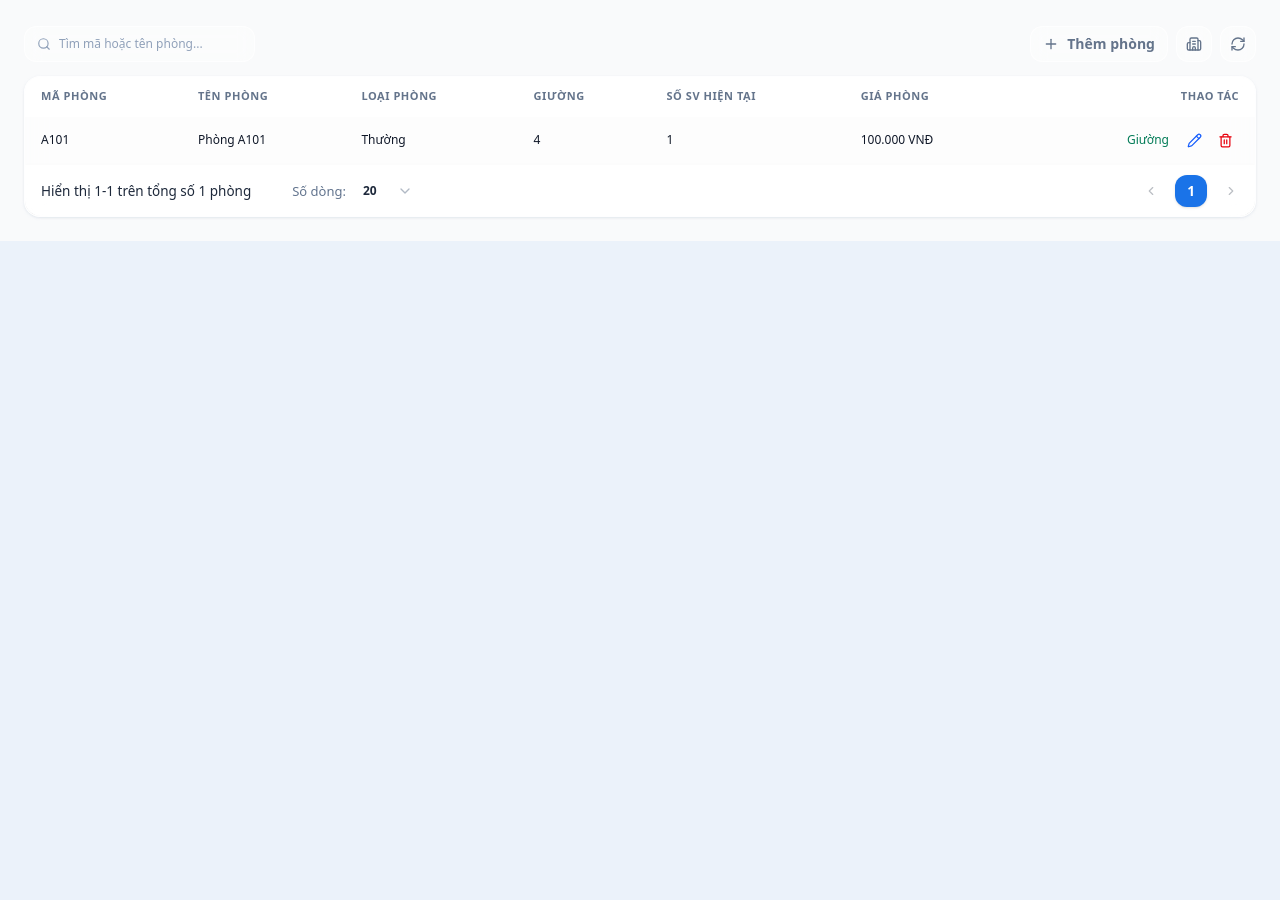
Test case: KTX room edit interaction › prefills the selected room and submits one normalized PATCH, then closes and refreshes
Click the button named "Sửa phòng A101". click: (1194,140)
box: [1181, 127, 1208, 154]
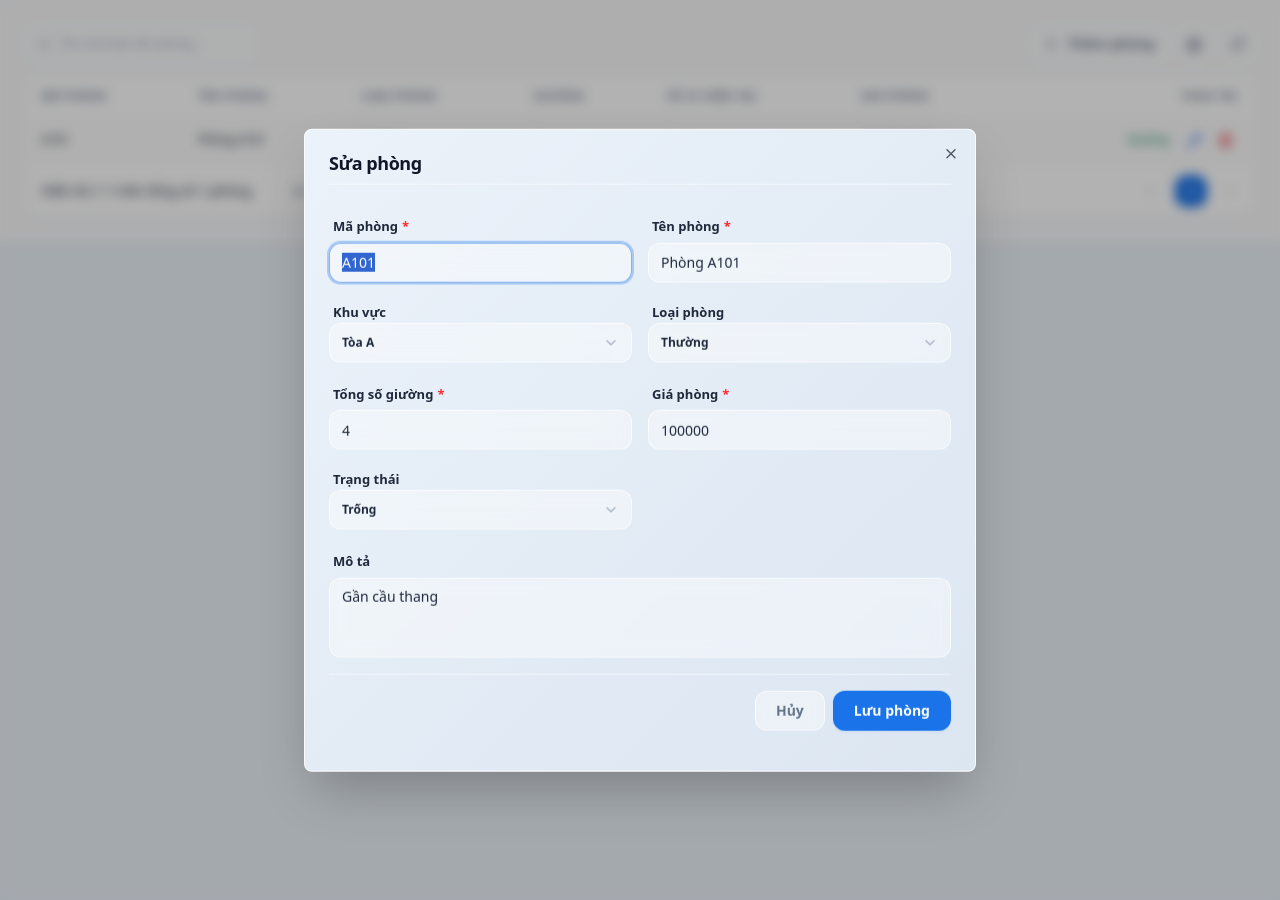
Result: the 1st field showing "A101" is shown at [329, 242, 632, 282]
Result: the 2nd field showing "Phòng A101" is shown at [648, 242, 951, 282]
Click the button "Lưu phòng". click: (892,710)
box: [833, 690, 951, 730]
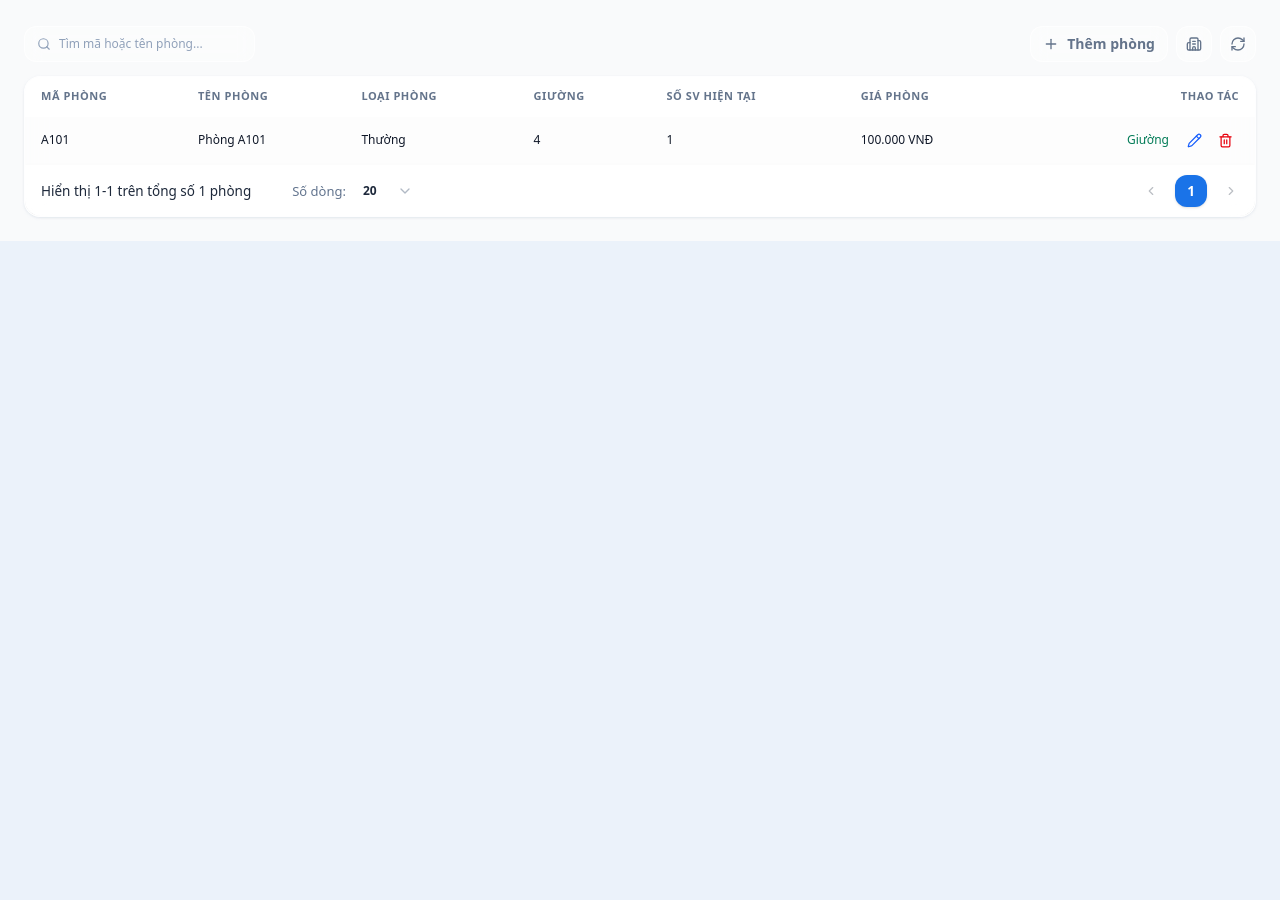
Result: the dialog is gone
